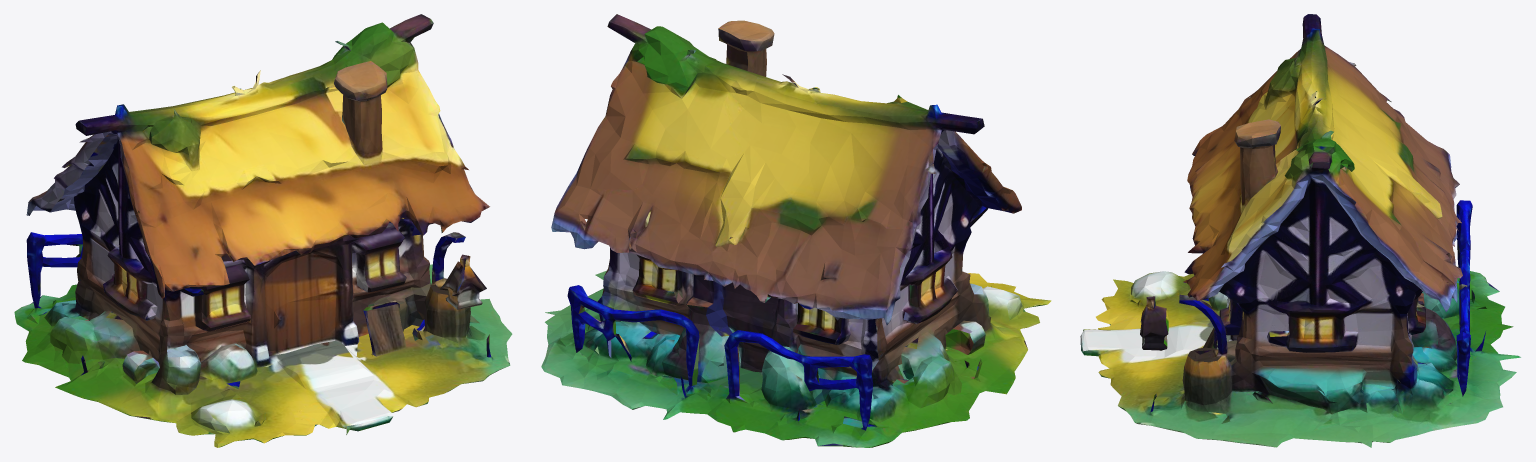
File: cabin.glb
3 renders of one model, left to right at view 1: azimuth 30°, elevation 25°; view 2: azimuth 150°, elevation 25°; view 3: azimuth 270°, elevation 25°, orthographic. The views are drawn at different scales.
Visible parts, largest first — view 1: tmpx43gqxax.ply; view 2: tmpx43gqxax.ply; view 3: tmpx43gqxax.ply.
Part boxes in pixels (box(x1,y1,x2,y2)): tmpx43gqxax.ply: box(14, 14, 512, 447); tmpx43gqxax.ply: box(541, 14, 1051, 447); tmpx43gqxax.ply: box(1080, 14, 1520, 447).
Size of the model in its own units: 2.01 by 1.29 by 1.91.
Materials: 1 (1 with a texture image).
